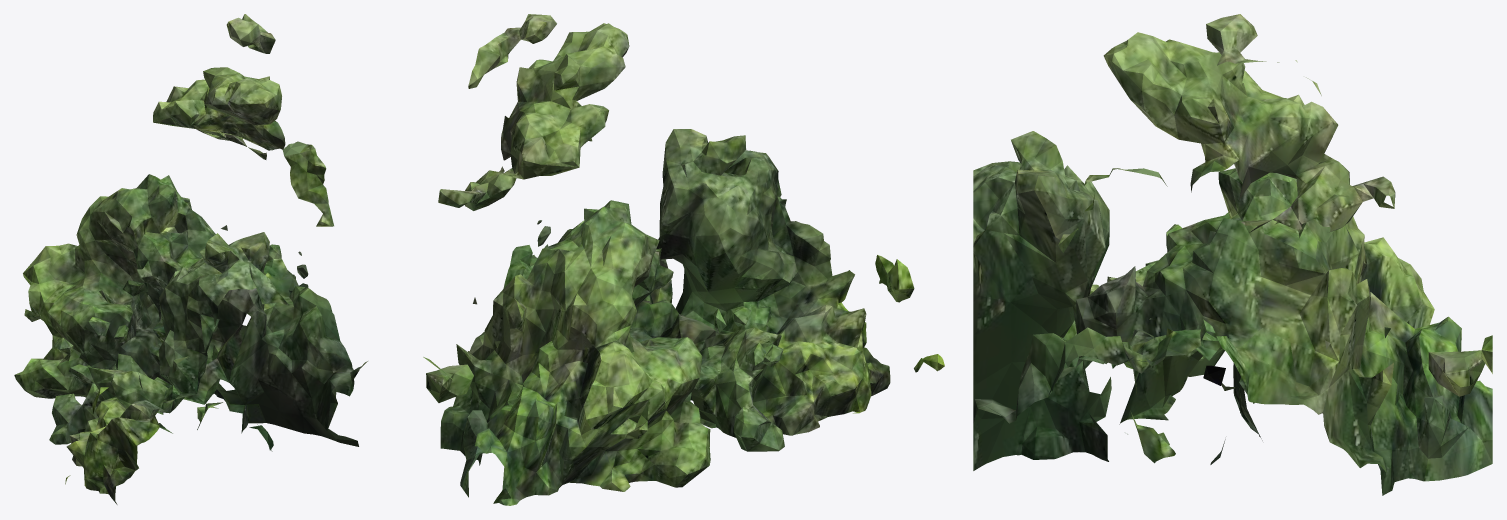
The picture shows the model from 3 angles, left to right: view 1: azimuth 30°, elevation 25°; view 2: azimuth 150°, elevation 25°; view 3: azimuth 270°, elevation 25°; orthographic projection. The views are drawn at different scales.
Size of the model in its own units: 23.04 by 25.98 by 26.11.
Materials: 6 (6 with a texture image).
